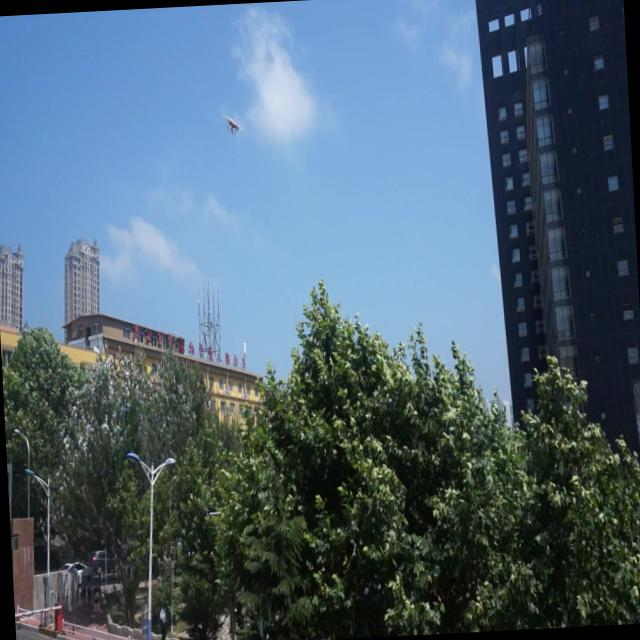drone: (223, 112, 245, 136)
